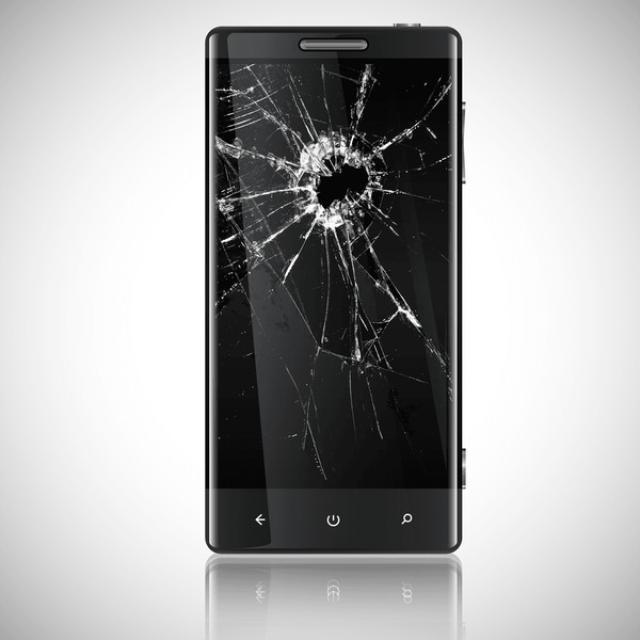Crack: (210, 244, 459, 479), (212, 60, 458, 243)
